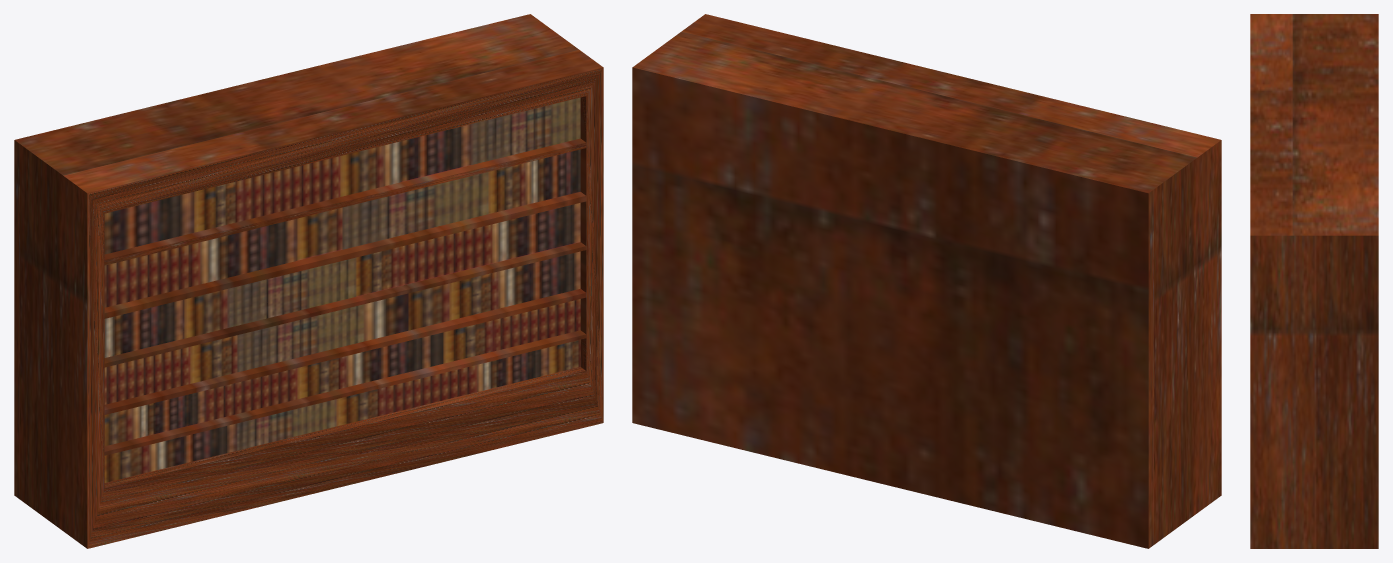
Rendered from Bookshelf.fbx.
The picture shows the model from 3 angles, left to right: view 1: azimuth 30°, elevation 25°; view 2: azimuth 150°, elevation 25°; view 3: azimuth 270°, elevation 25°; orthographic projection. The views are drawn at different scales.
Visible parts, largest first — view 1: pCube1; view 2: pCube1; view 3: pCube1.
Part boxes in pixels (x1,y1,x2,y2): pCube1: [14, 14, 603, 548]; pCube1: [632, 14, 1221, 548]; pCube1: [1250, 14, 1378, 548].
Bounding box in the file's own units: 3 × 1.98 × 0.7354.
